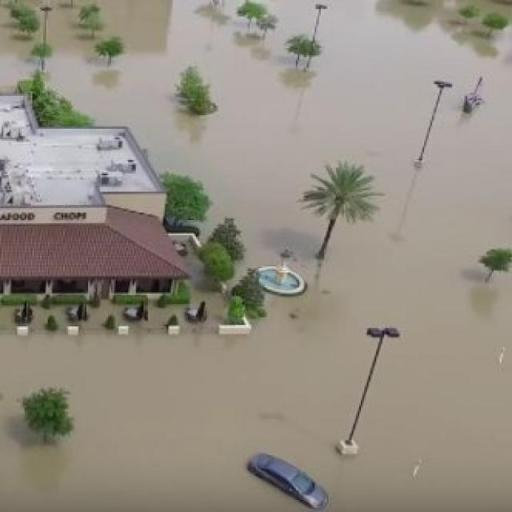house: (2, 202, 190, 280), (4, 128, 169, 216), (0, 94, 35, 141)
